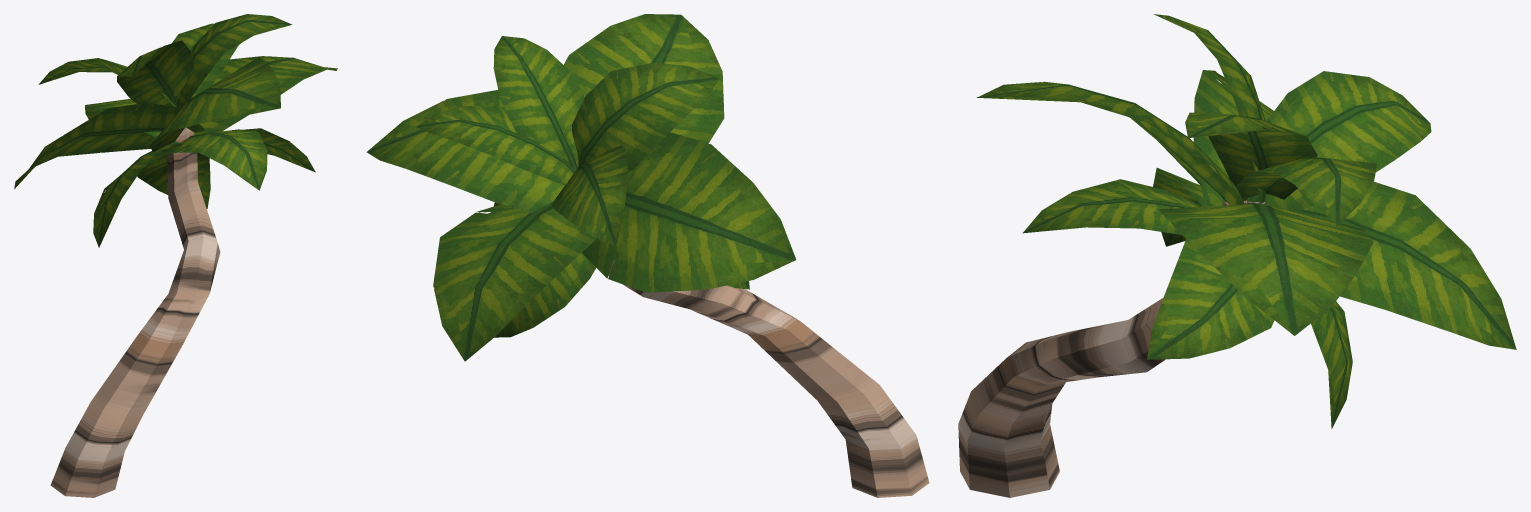
Rendered from MBL_Palm2 (1).fbx.
3 views of the same model, side by side, from view 1: azimuth 30°, elevation 25°; view 2: azimuth 150°, elevation 25°; view 3: azimuth 270°, elevation 25° (orthographic). The views are drawn at different scales.
Parts seen in each view (by area): view 1: MBL_Palm2_trunkShape; view 2: MBL_Palm2_trunkShape; view 3: MBL_Palm2_trunkShape.
Boxes of the visible parts, left/top/right/bottom form: MBL_Palm2_trunkShape: left=14, top=14, right=337, bottom=497; MBL_Palm2_trunkShape: left=366, top=14, right=929, bottom=497; MBL_Palm2_trunkShape: left=958, top=14, right=1516, bottom=497.
Size of the model in its own units: 4.61 by 4.28 by 3.93.
Materials: 2 (2 with a texture image).
